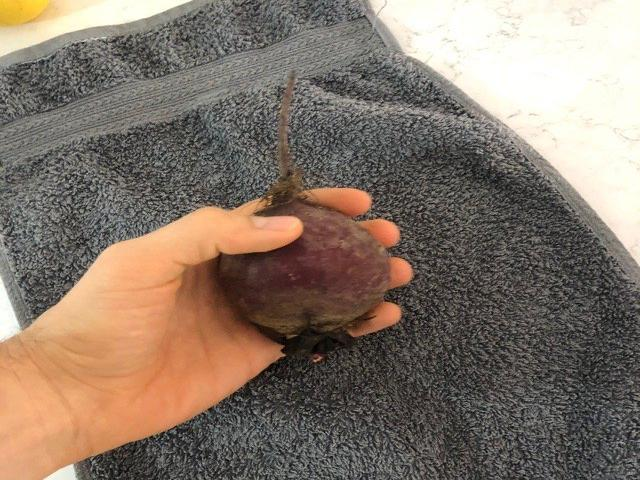beet: (217, 70, 392, 355)
